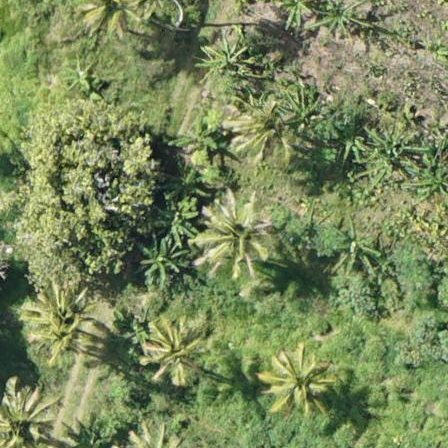palm_tree: (198, 201, 269, 269), (26, 288, 91, 359), (225, 98, 291, 167), (263, 349, 330, 416), (140, 323, 206, 388), (1, 383, 61, 448)
